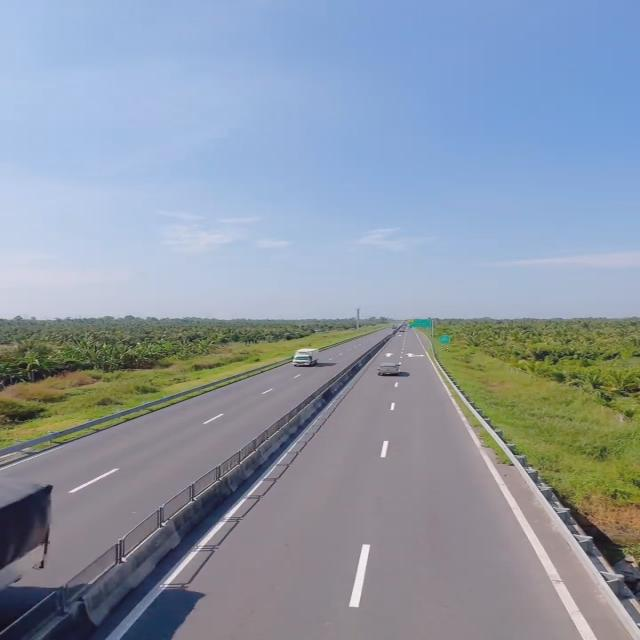truck: (0, 472, 56, 632)
